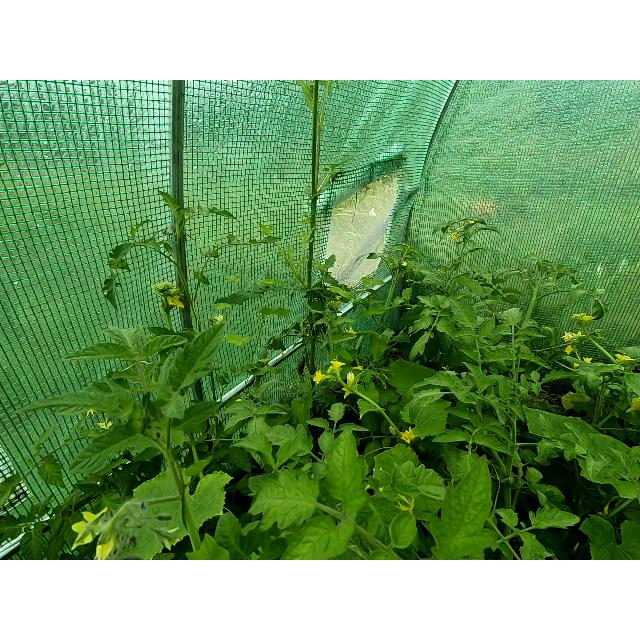Flowers: (74, 510, 118, 560), (166, 292, 187, 312), (395, 496, 417, 514), (342, 372, 356, 396), (573, 313, 595, 327), (626, 398, 640, 417), (562, 332, 584, 344), (400, 427, 416, 441), (98, 420, 114, 430), (312, 368, 322, 382), (615, 355, 631, 363), (210, 316, 224, 324), (328, 361, 346, 367), (86, 408, 96, 418), (449, 232, 459, 242), (564, 346, 574, 354), (583, 356, 593, 364), (572, 364, 578, 368)
